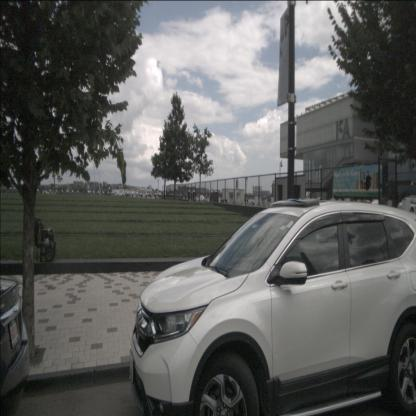vehicle-car: (128, 198, 416, 416), (396, 196, 416, 215)
